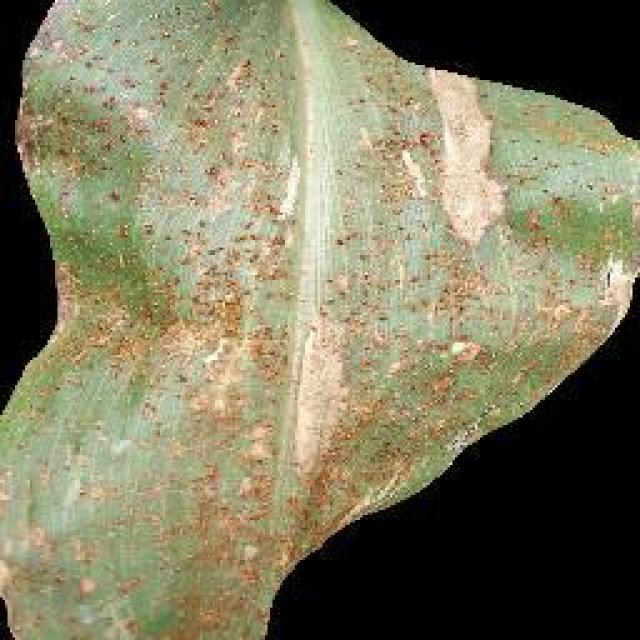Corn Common Rust: (112, 94, 418, 534)
